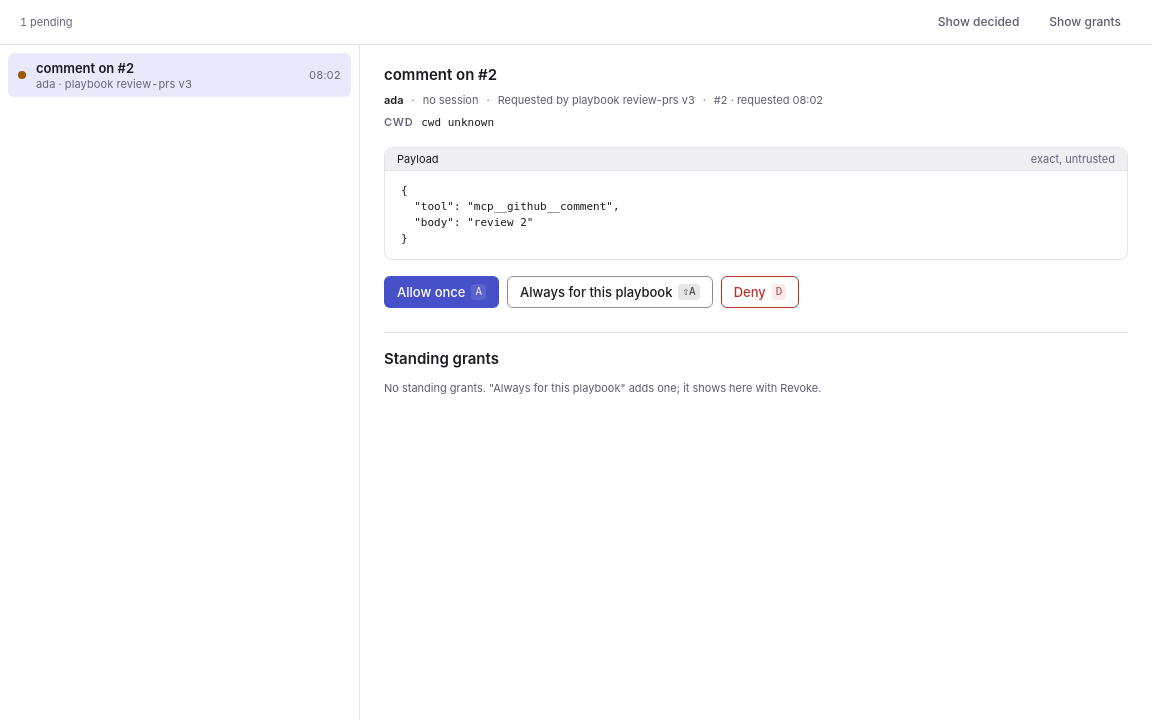
Test case: the inbox › Hide decided with a decided row selected says it is no longer listed, not that it was waiting
Click the button "Show decided": [979, 22] box [927,8,1030,36]
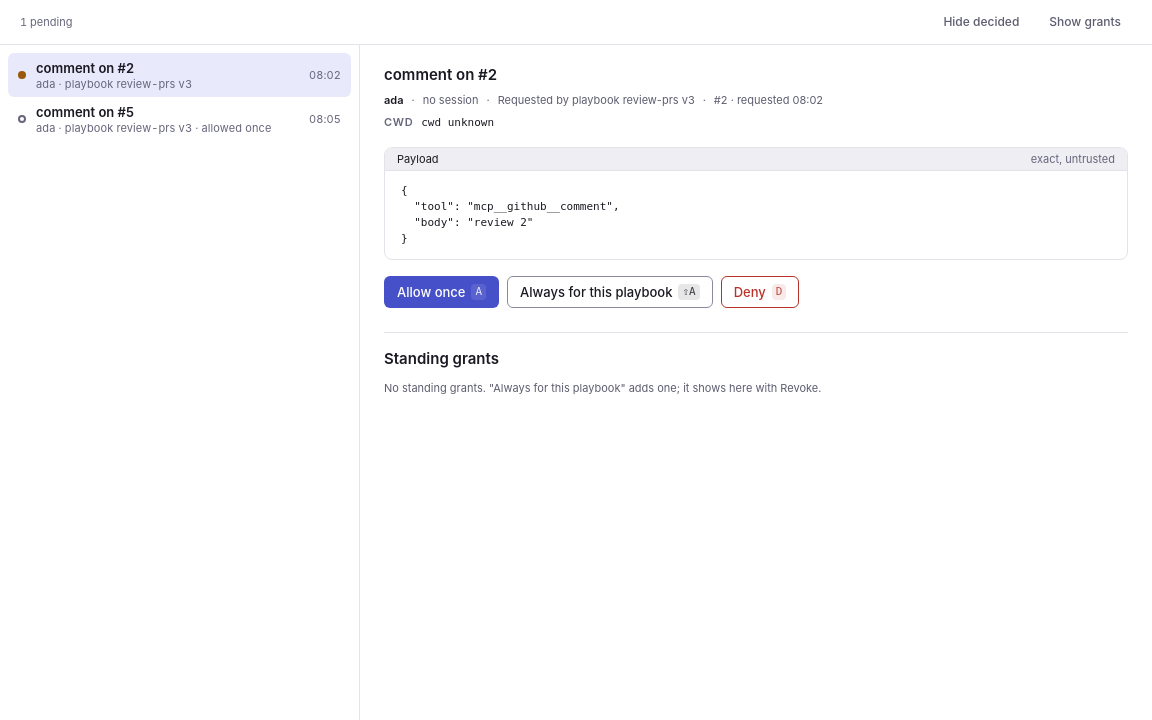
Press j
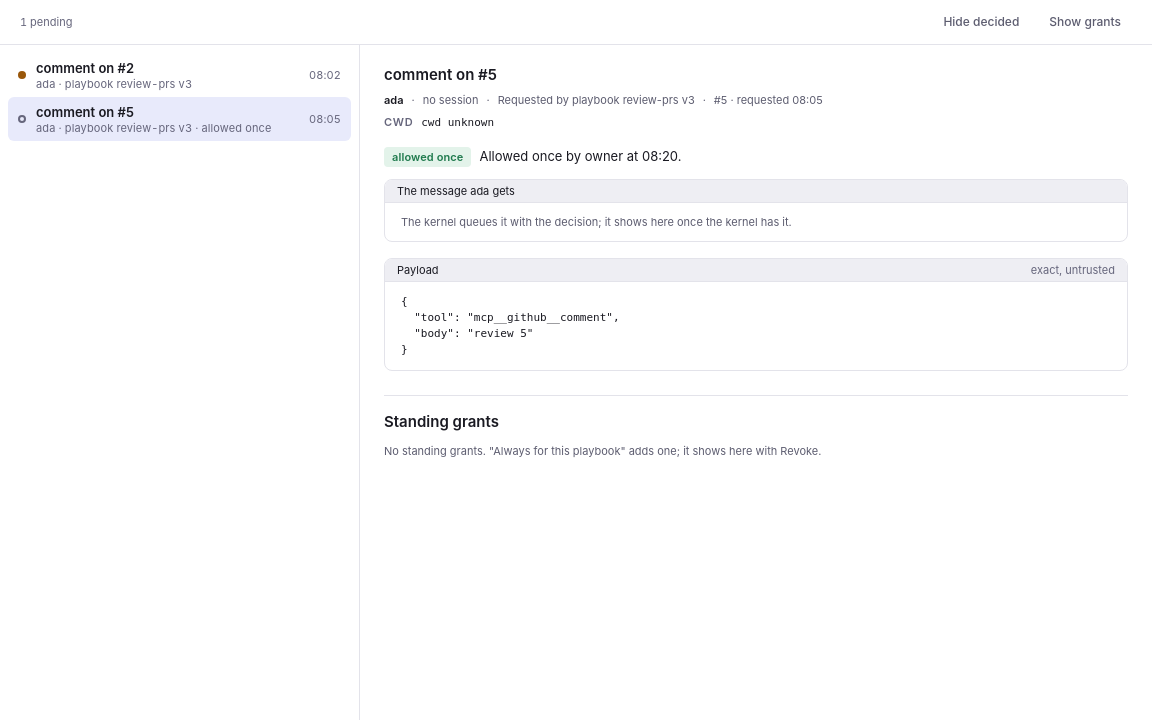
Click the button "Hide decided": [981, 22] box [932,8,1030,36]
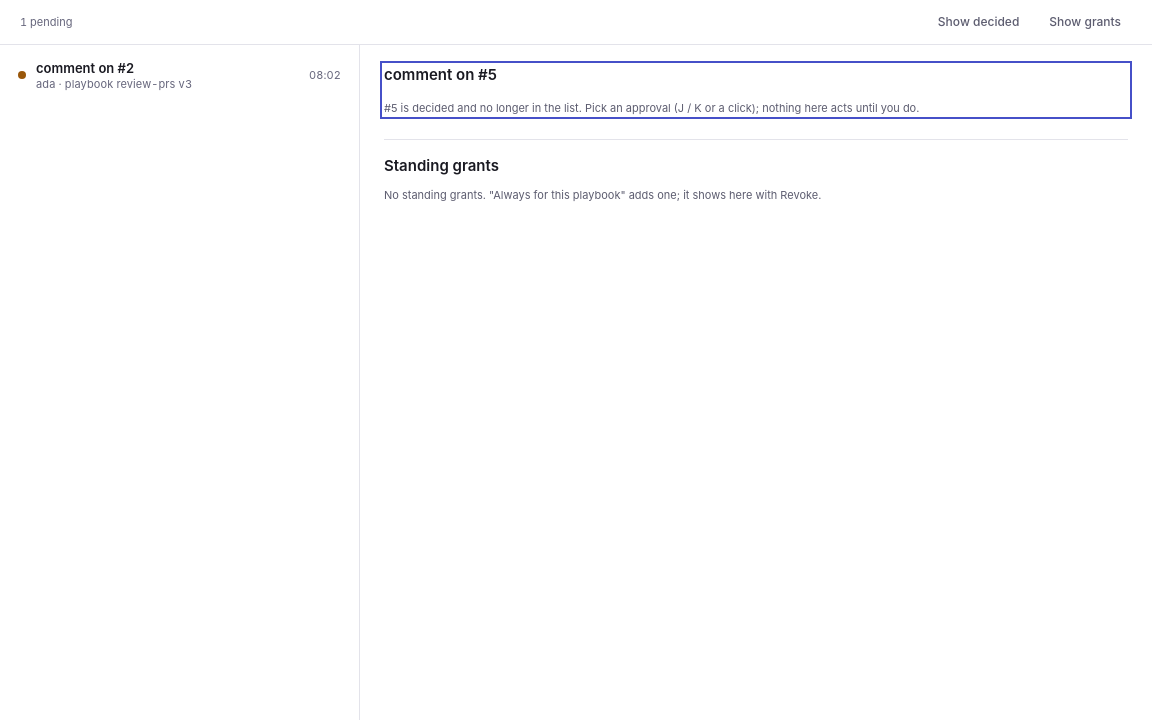
Check: the message with test id "approval-gone" shows "#5 is decided and no longer in the list.", box [384,101,582,115]
